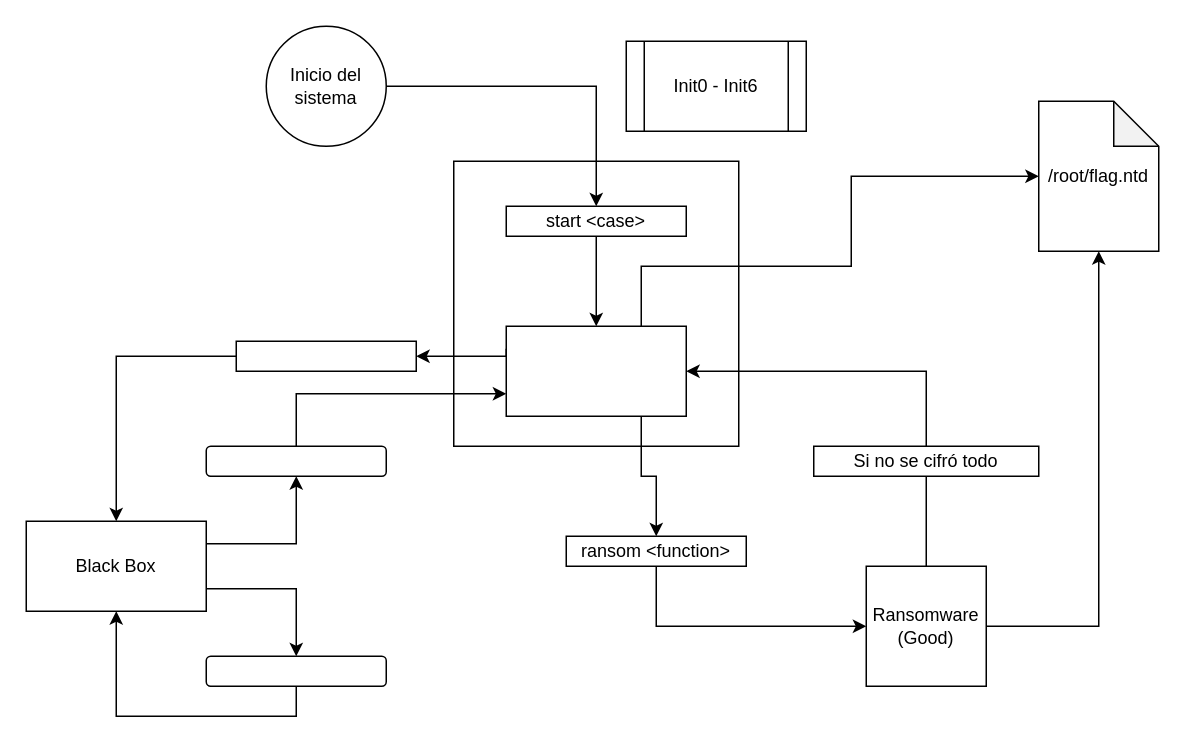
Some shapes in this 1185 by 755 pixel diagram are drawn without their labels. Each missing label, with the centre of its shape:
blackbox <function>: pixel 325 355
No se detecta nada: pixel 295 670
NotToday (Daemon): pixel 595 370
Se detecta un ataque: pixel 295 460
